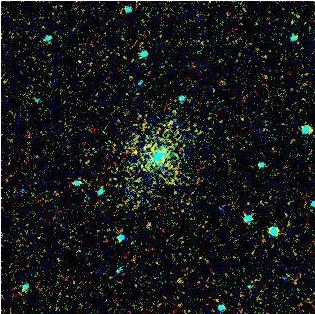star: (119, 138, 149, 168)
